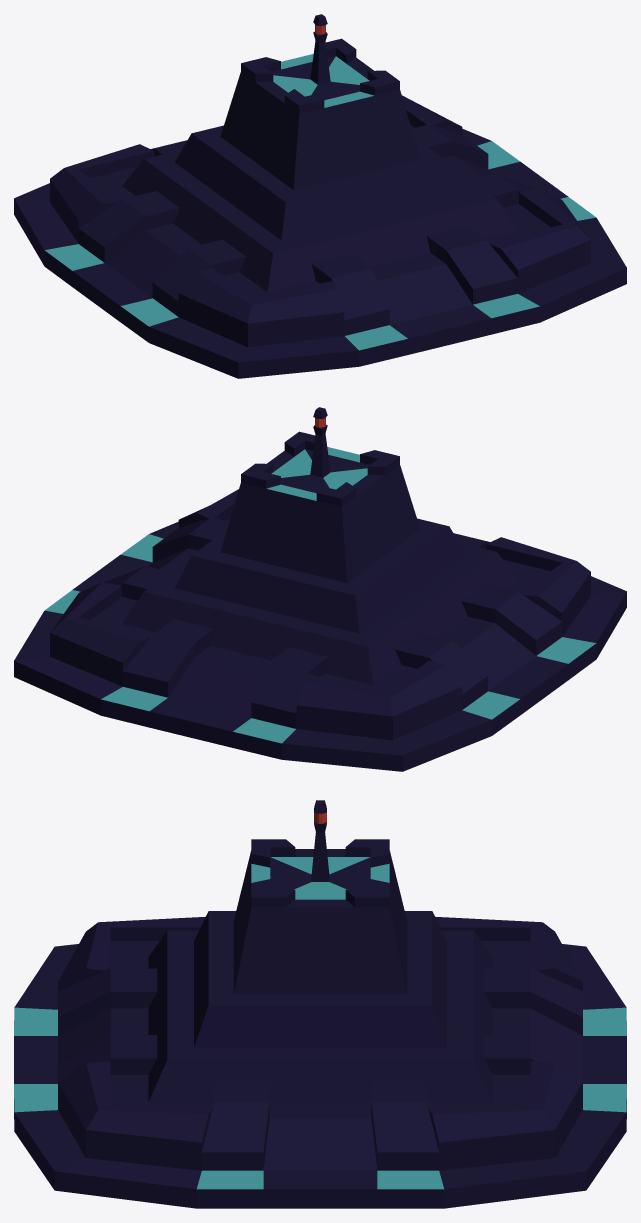
File: House5.fbx
3 views of the same model, one above another, from view 1: azimuth 30°, elevation 25°; view 2: azimuth 150°, elevation 25°; view 3: azimuth 270°, elevation 25° (orthographic). The views are drawn at different scales.
Parts seen in each view (by area): view 1: House5; view 2: House5; view 3: House5.
Boxes of the visible parts, bbox=[...] form: House5: bbox=[14, 14, 626, 378]; House5: bbox=[14, 407, 626, 771]; House5: bbox=[14, 800, 626, 1208].
Bounding box in the file's own units: 1254 × 626 × 1254.
